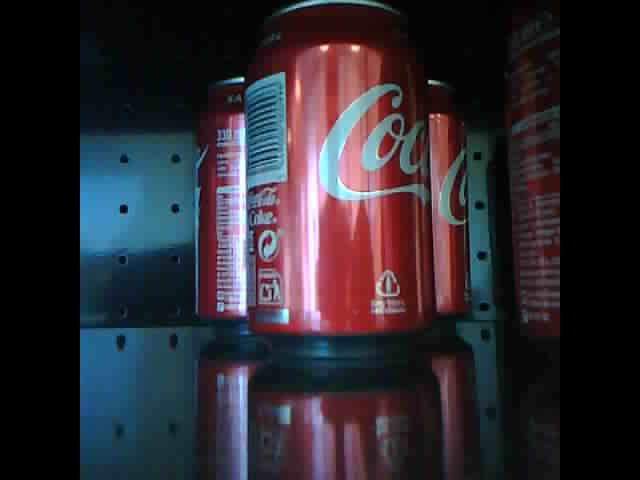coca cola: (246, 4, 434, 362), (493, 4, 559, 356), (191, 71, 248, 338), (421, 68, 472, 329)
